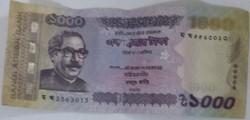1000 taka: (10, 7, 246, 115)
